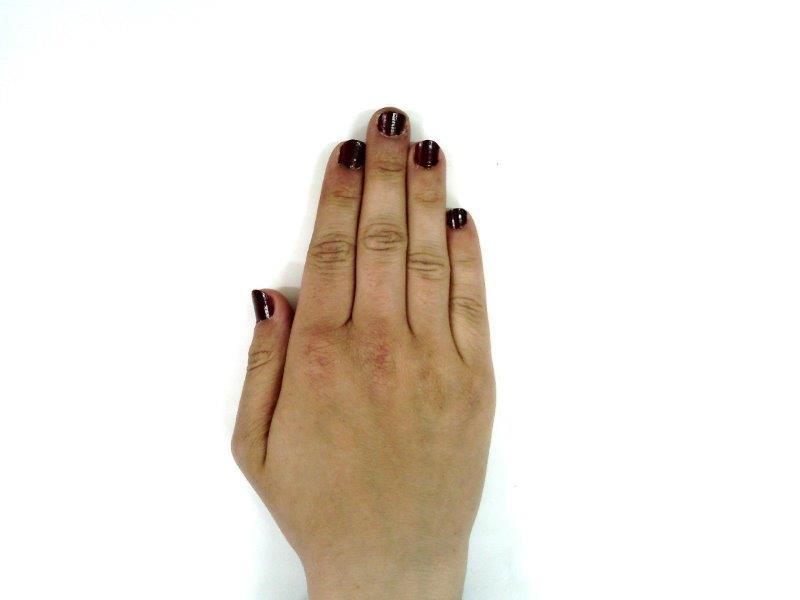hand: (230, 105, 497, 546)
